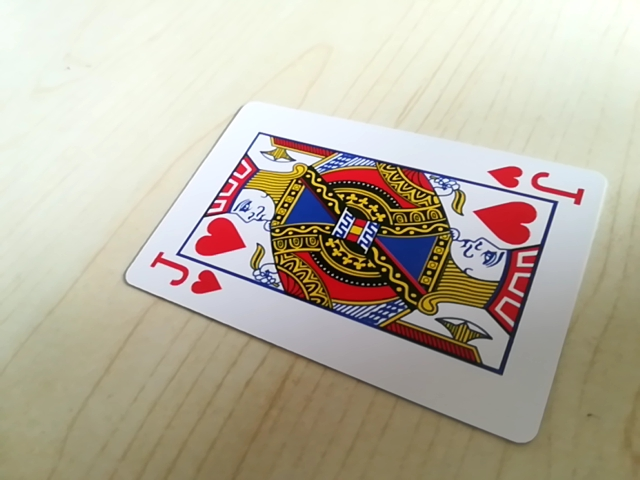hx j: (487, 162, 592, 201), (147, 257, 227, 299)
